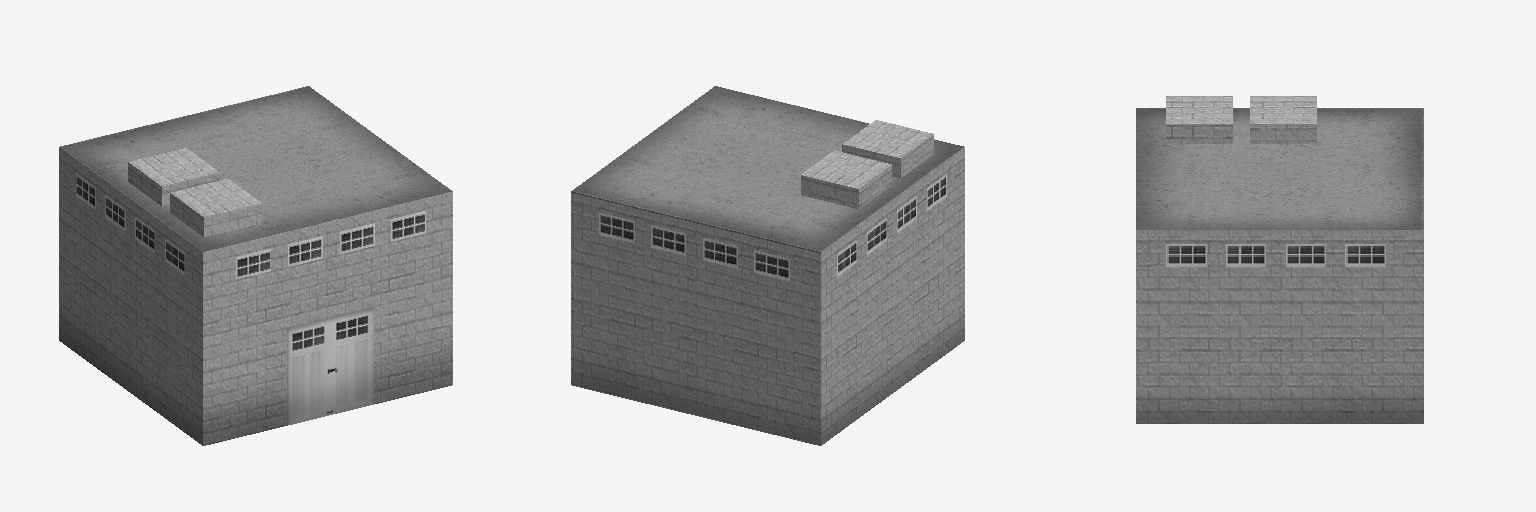
3 renders of one model, left to right at view 1: azimuth 30°, elevation 25°; view 2: azimuth 150°, elevation 25°; view 3: azimuth 270°, elevation 25°, orthographic.
Visible parts, largest first — view 1: Cube.001_Cube; view 2: Cube.001_Cube; view 3: Cube.001_Cube.
Boxes of the visible parts, x1,y1,x2,y2 form: Cube.001_Cube: [59, 86, 452, 445]; Cube.001_Cube: [571, 86, 964, 445]; Cube.001_Cube: [1136, 96, 1423, 423].
Size of the model in its own units: 8.58 by 7.04 by 8.58.
1 materials, 1 textured.